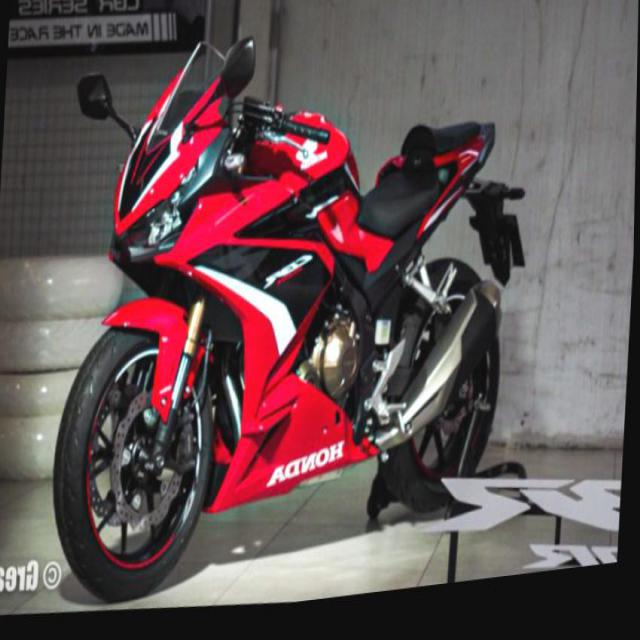CBR500R: (46, 1, 541, 633)
